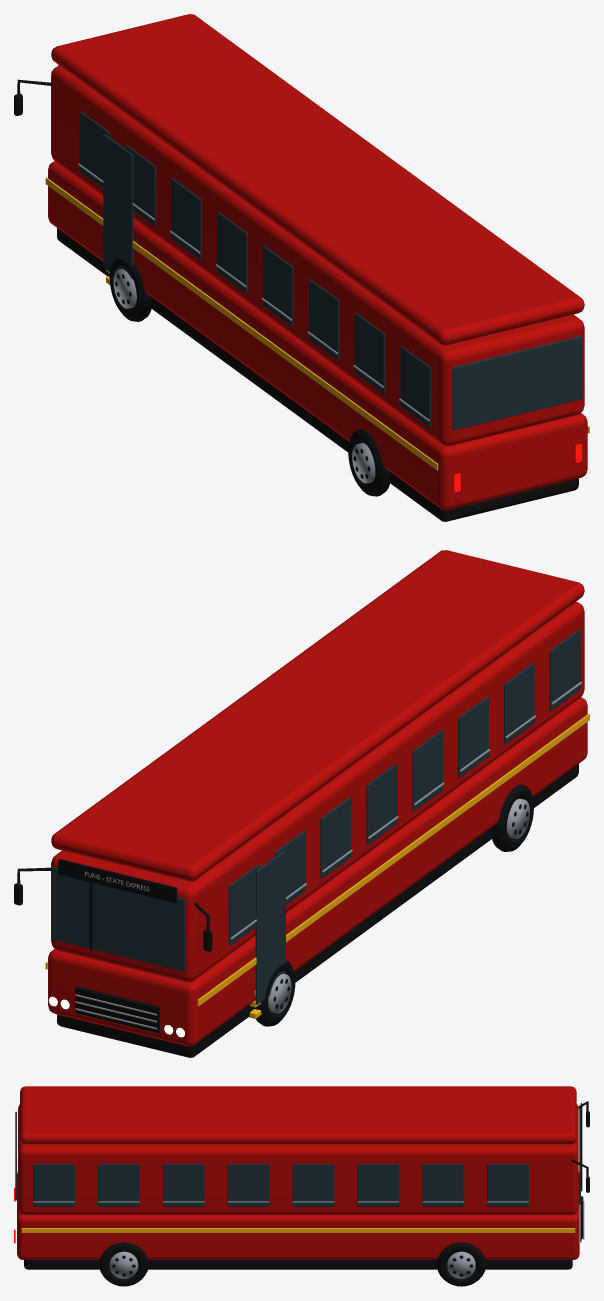
Rendered from state-red-coach.glb.
3 views of the same model, one above another, from view 1: azimuth 30°, elevation 25°; view 2: azimuth 150°, elevation 25°; view 3: azimuth 270°, elevation 25° (orthographic). The views are drawn at different scales.
Parts seen in each view (by area): view 1: Surface_Paint, Surface_Bus_glass, Surface_Bus_rubber, Surface_Yellow_livery, Bus_tire, Bus_tire.001, Surface_Bus_alloy, Bus_rim, Bus_rim.001; view 2: Surface_Paint, Surface_Bus_glass, Surface_Bus_rubber, Surface_Yellow_livery, Surface_Bus_alloy, Bus_tire, Bus_tire.001, Bus_rim, Bus_rim.001; view 3: Surface_Paint, Surface_Bus_glass, Surface_Bus_rubber, Surface_Yellow_livery, Bus_tire.003, Bus_tire.002, Surface_Bus_alloy, Bus_rim.002, Bus_rim.003.
Part boxes in pixels (bbox=[...]): Surface_Paint: bbox=[48, 14, 587, 510]; Surface_Bus_glass: bbox=[51, 71, 582, 430]; Surface_Bus_rubber: bbox=[14, 65, 578, 521]; Surface_Yellow_livery: bbox=[45, 177, 589, 470]; Bus_tire: bbox=[348, 429, 389, 496]; Bus_tire.001: bbox=[109, 258, 151, 321]; Surface_Bus_alloy: bbox=[78, 163, 429, 421]; Bus_rim: bbox=[352, 443, 375, 483]; Bus_rim.001: bbox=[113, 269, 136, 308]; Surface_Paint: bbox=[48, 550, 587, 1046]; Surface_Bus_glass: bbox=[51, 629, 580, 1004]; Surface_Bus_rubber: bbox=[14, 764, 578, 1057]; Surface_Yellow_livery: bbox=[45, 713, 589, 1018]; Surface_Bus_alloy: bbox=[75, 682, 581, 1029]; Bus_tire: bbox=[492, 784, 533, 851]; Bus_tire.001: bbox=[254, 960, 295, 1026]; Bus_rim: bbox=[506, 798, 529, 838]; Bus_rim.001: bbox=[268, 973, 291, 1013]; Surface_Paint: bbox=[17, 1086, 579, 1259]; Surface_Bus_glass: bbox=[15, 1107, 580, 1206]; Surface_Bus_rubber: bbox=[24, 1101, 589, 1269]; Surface_Yellow_livery: bbox=[21, 1228, 575, 1232]; Bus_tire.003: bbox=[436, 1242, 486, 1286]; Bus_tire.002: bbox=[98, 1242, 148, 1286]; Surface_Bus_alloy: bbox=[33, 1201, 584, 1239]; Bus_rim.002: bbox=[109, 1251, 138, 1278]; Bus_rim.003: bbox=[447, 1251, 475, 1278].
Size of the model in its own units: 3.27 by 3.39 by 11.67.
